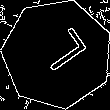L_SW: (27, 27, 87, 81)
